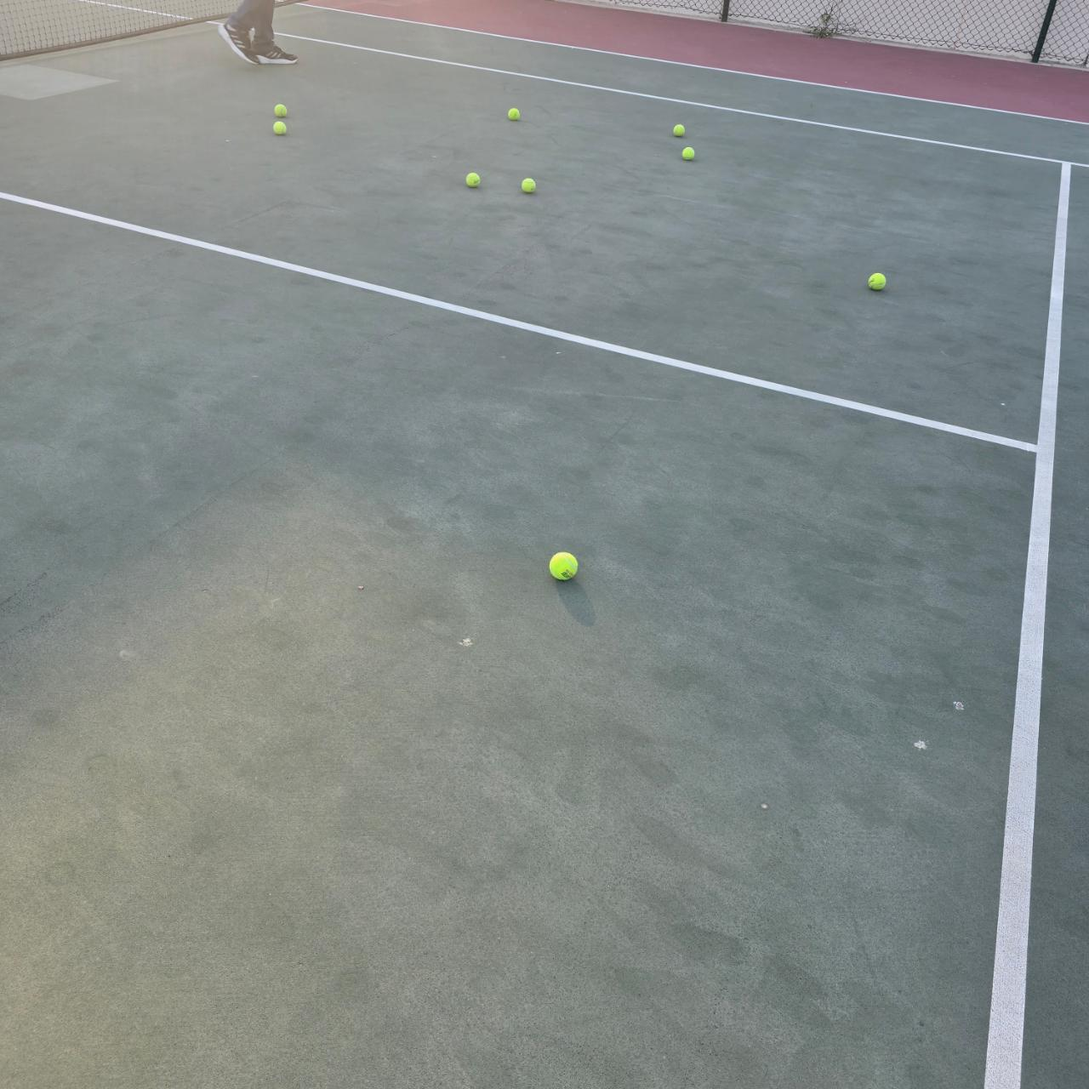tennis-ball: (549, 549, 580, 581), (868, 270, 888, 291), (522, 175, 538, 193), (466, 170, 482, 187), (681, 145, 697, 161), (273, 118, 288, 134), (274, 101, 289, 117), (508, 105, 522, 120), (673, 122, 687, 136)
